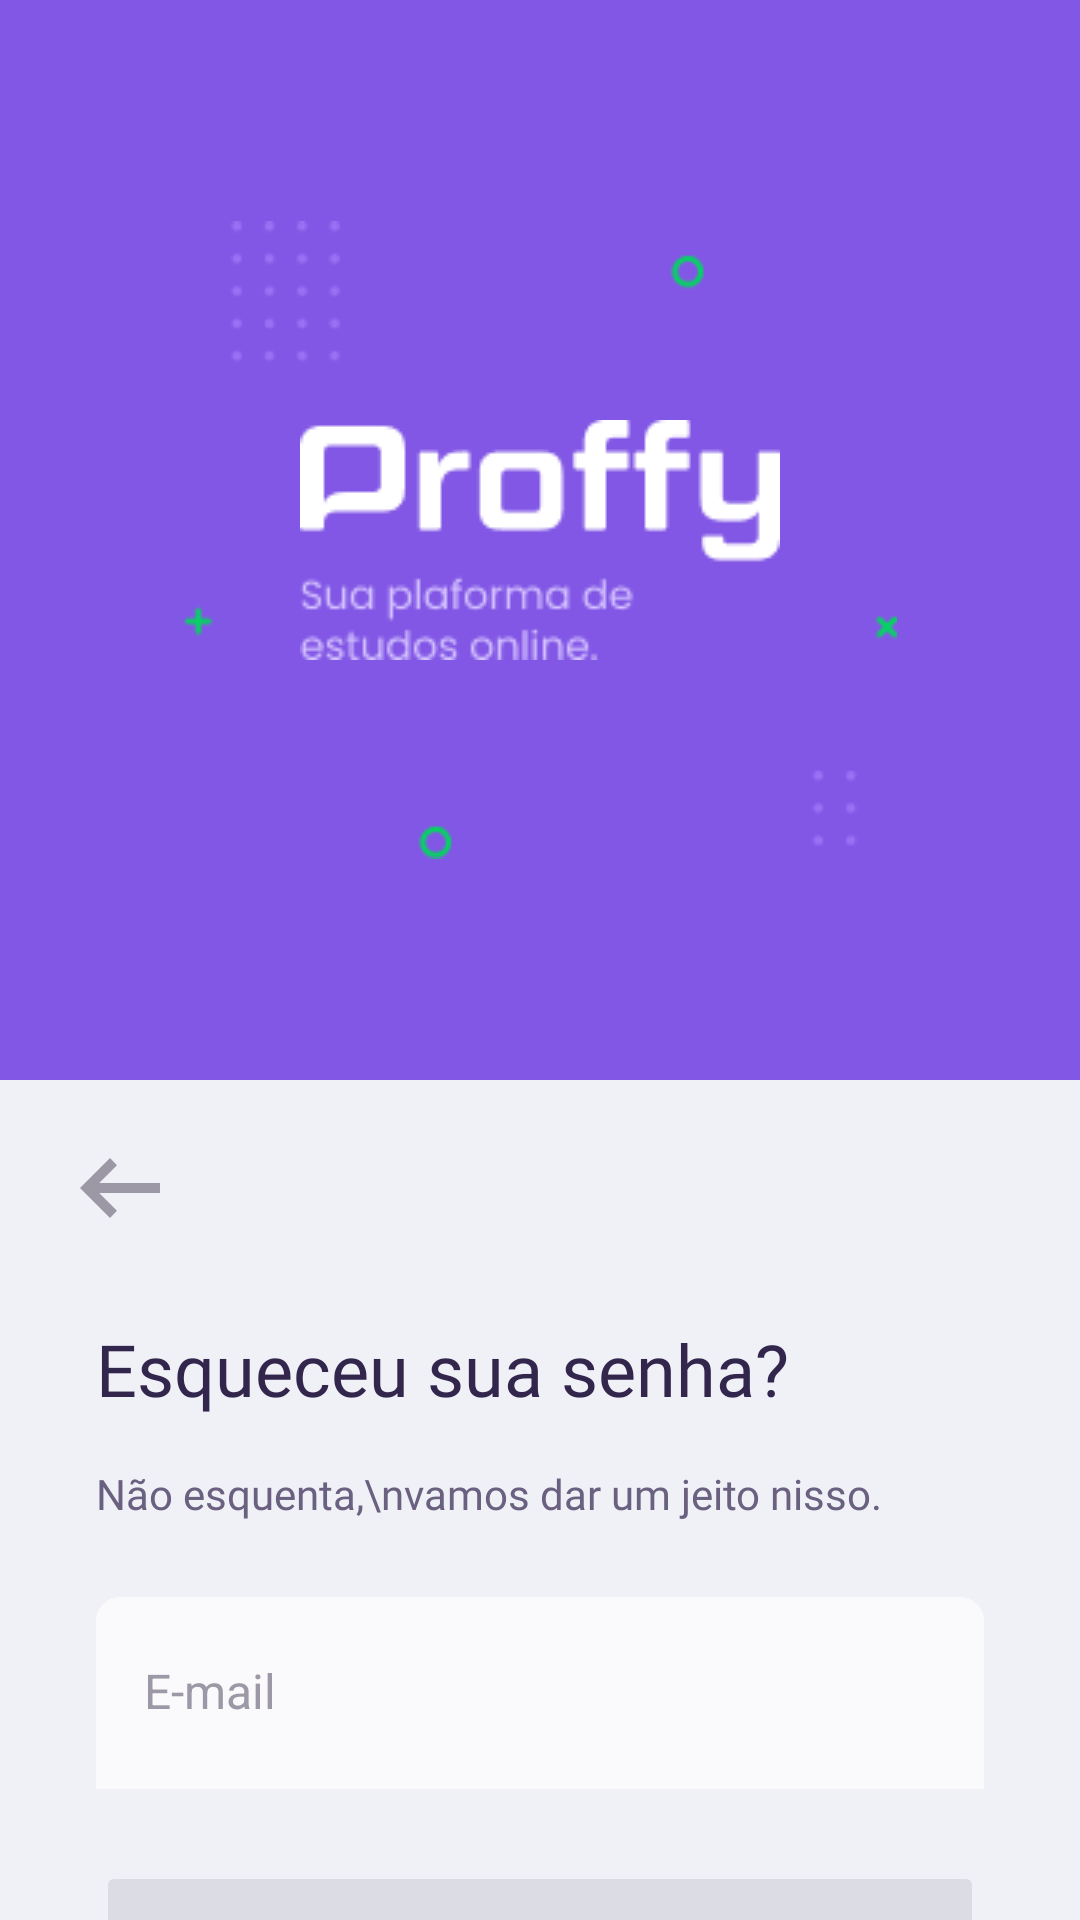

Where to tap for icons on this 1080*1920 app screen, as point (x, y):
Botão para voltar a tela de login: point (120, 1188)
